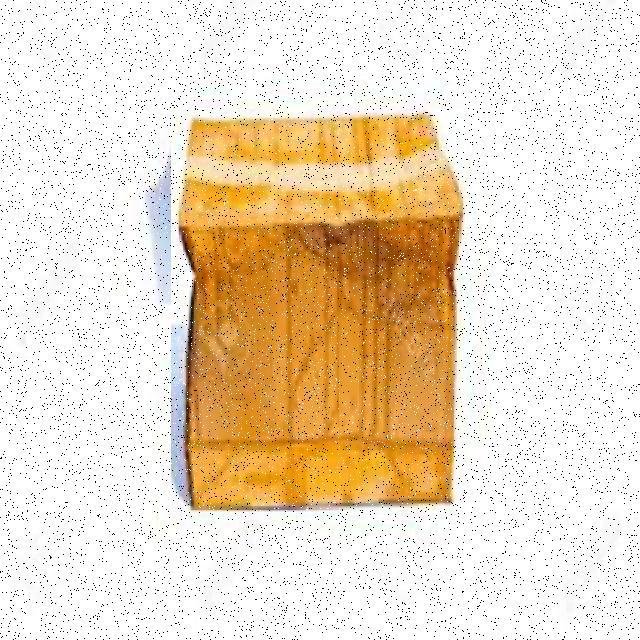defect: (171, 109, 466, 520)
